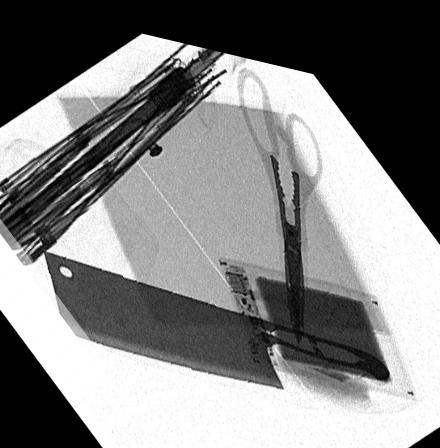Knife: (40, 244, 392, 373)
Powerbank: (217, 242, 420, 381)
Scissors: (235, 56, 327, 331)
